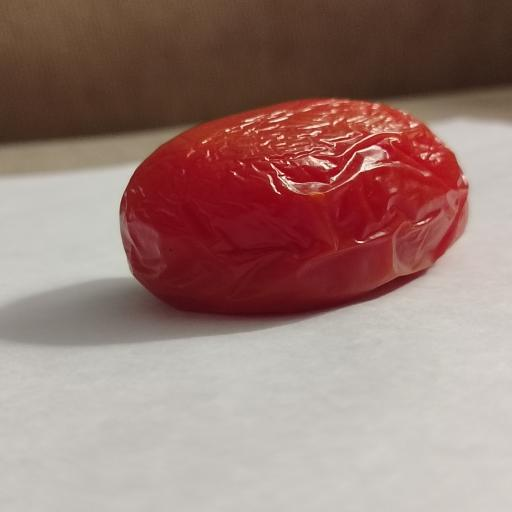spoiled: (120, 99, 467, 313)
